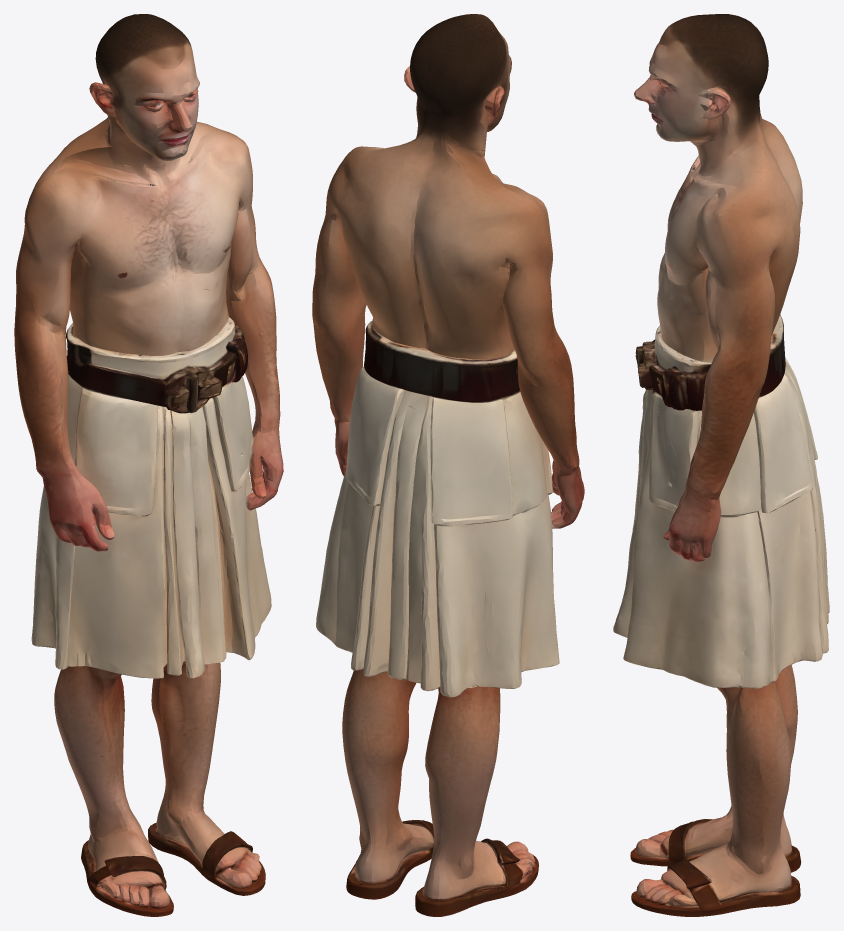
The model's file is temple_scribe_rodin_source.glb.
3 renders of one model, left to right at view 1: azimuth 30°, elevation 25°; view 2: azimuth 150°, elevation 25°; view 3: azimuth 270°, elevation 25°, orthographic.
Parts seen in each view (by area): view 1: model; view 2: model; view 3: model.
Boxes of the visible parts, box(x1,y1,x2,y2) form: model: box(14, 14, 283, 916); model: box(312, 14, 584, 916); model: box(613, 14, 829, 916).
Bounding box in the file's own units: 0.5815 × 1.9 × 0.4363.
1 material, 1 textured.
